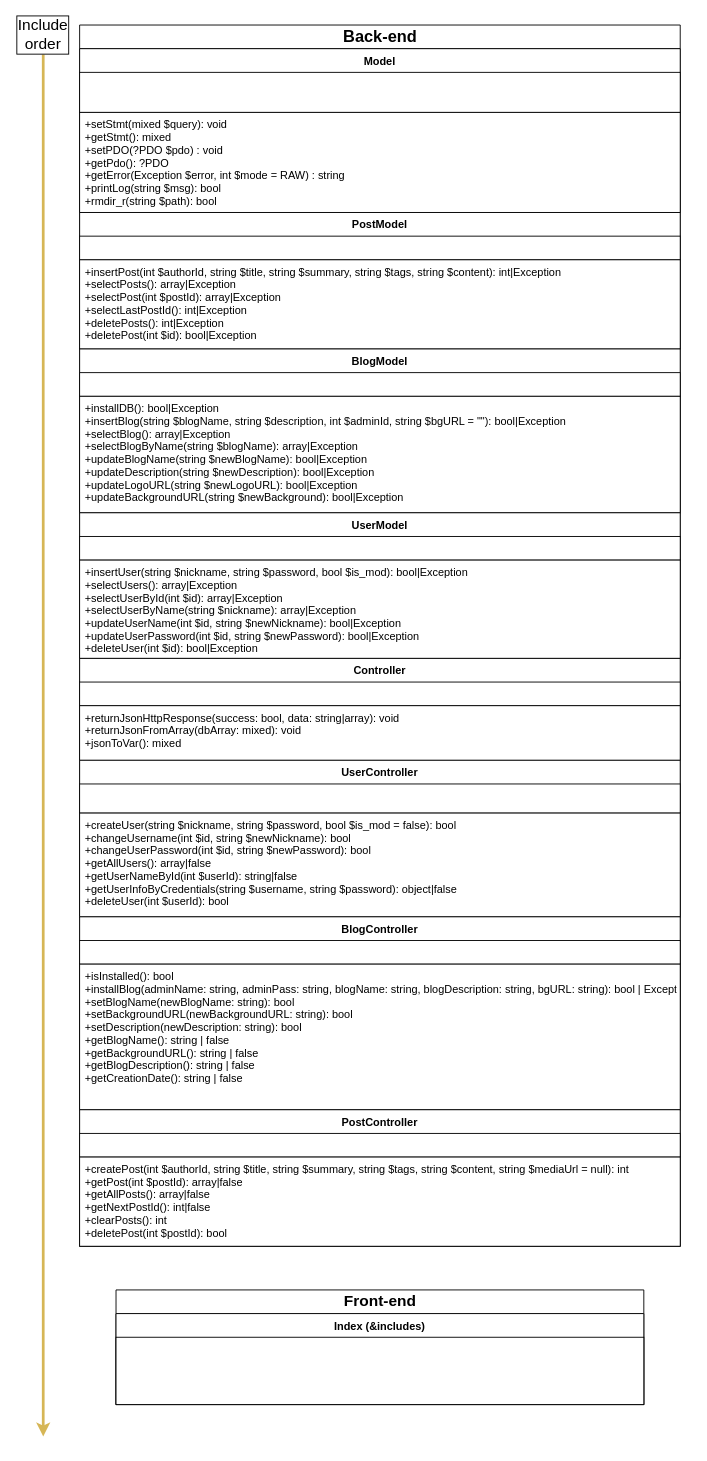
This 707x1461 diagram has some shape labels left out. Here are the shapes that lost their labels. From the top down, the centre of each, then its label:
At pixel 379 91: "-pdo : ?PDO -stmt : mixed".
At pixel 379 1370: "header.php head.php $_GET['page'].php footer.php".
